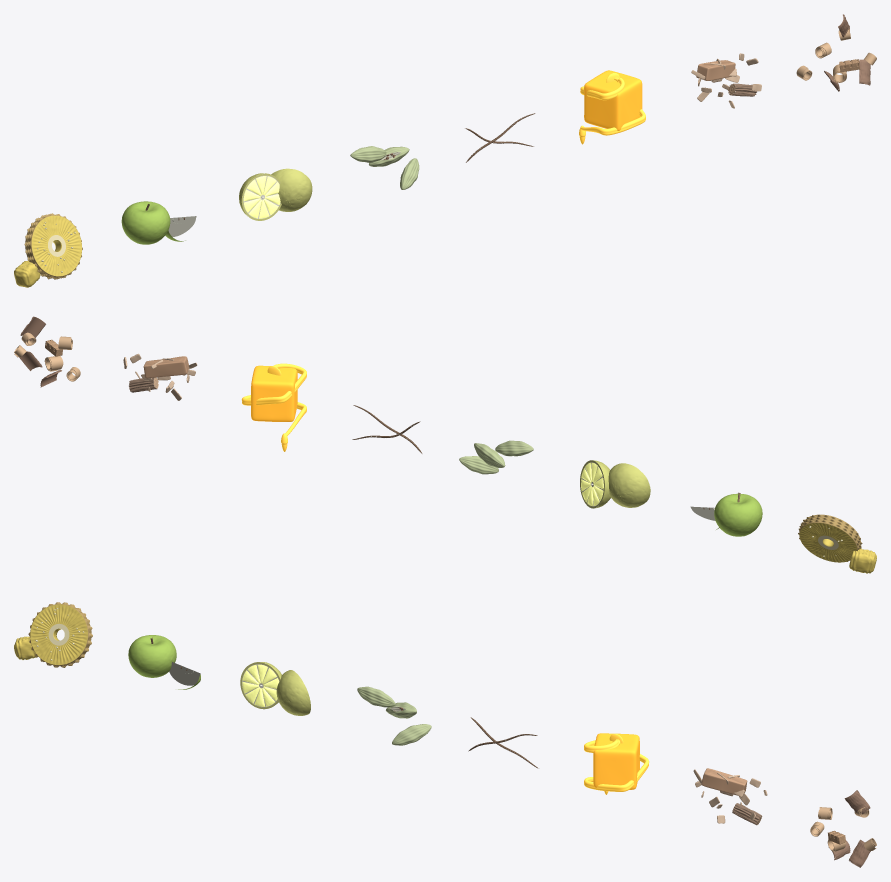
Rendered from midbel_ingredients_3d.glb.
3 views of the same model, one above another, from view 1: azimuth 30°, elevation 25°; view 2: azimuth 150°, elevation 25°; view 3: azimuth 330°, elevation 25° (orthographic).
Visible parts, largest first — view 1: caramel_cube, pineapple_slice_flesh, apple_body, bergamot_b_peel, bergamot_pulp, caramel_ribbon, cedar_curls, sandalwood_chips, pineapple_slice_skin, sandalwood_block_1; view 2: caramel_cube, apple_body, pineapple_slice_flesh, bergamot_peel, caramel_ribbon, cedar_curls, bergamot_b_pulp, sandalwood_block_1, cedar_bark, pineapple_slice_skin, sandalwood_chips, pineapple_chunk; view 3: pineapple_slice_flesh, caramel_cube, apple_body, bergamot_pulp, bergamot_b_peel, cedar_bark, caramel_ribbon, sandalwood_block_1, cedar_curls, sandalwood_chips, pineapple_slice_skin, cardamom_pod_2.
Boxes of the visible parts, <box> form: caramel_cube: <box>584,70,642,130</box>; pineapple_slice_flesh: <box>31,215,81,276</box>; apple_body: <box>121,201,170,244</box>; bergamot_b_peel: <box>271,168,312,211</box>; bergamot_pulp: <box>243,176,280,218</box>; caramel_ribbon: <box>580,77,645,135</box>; cedar_curls: <box>796,28,876,82</box>; sandalwood_chips: <box>691,53,761,108</box>; pineapple_slice_skin: <box>24,213,82,279</box>; sandalwood_block_1: <box>696,60,735,80</box>; caramel_cube: <box>251,365,297,421</box>; apple_body: <box>714,493,762,536</box>; pineapple_slice_flesh: <box>799,523,857,562</box>; bergamot_peel: <box>608,463,650,507</box>; caramel_ribbon: <box>241,363,306,435</box>; cedar_curls: <box>14,332,80,381</box>; bergamot_b_pulp: <box>581,462,603,506</box>; sandalwood_block_1: <box>143,356,189,378</box>; cedar_bark: <box>18,316,61,387</box>; pineapple_slice_skin: <box>798,514,862,561</box>; sandalwood_chips: <box>123,353,197,400</box>; pineapple_chunk: <box>849,548,876,573</box>; pineapple_slice_flesh: <box>30,604,87,664</box>; caramel_cube: <box>593,733,639,789</box>; apple_body: <box>128,635,176,677</box>; bergamot_pulp: <box>242,664,279,706</box>; bergamot_b_peel: <box>276,670,310,715</box>; cedar_bark: <box>828,790,870,867</box>; caramel_ribbon: <box>584,739,649,791</box>; sandalwood_block_1: <box>701,768,747,795</box>; cedar_curls: <box>810,807,876,851</box>; sandalwood_chips: <box>693,769,767,823</box>; pineapple_slice_skin: <box>28,602,92,667</box>; cardamom_pod_2: <box>392,724,431,745</box>.
Bounding box in the file's own units: 24.4 × 2 × 1.37.
